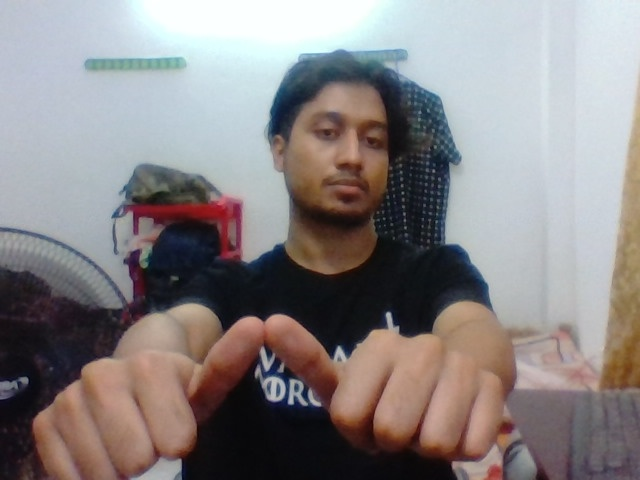A: (15, 300, 532, 480)
